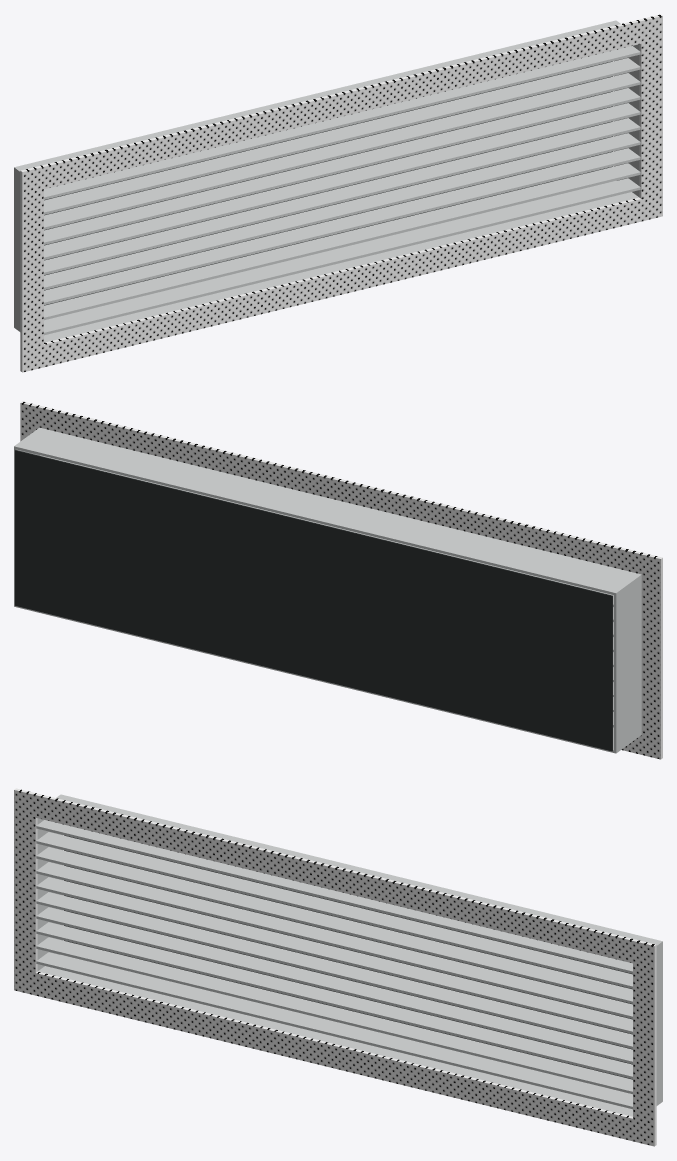
The model's file is ecoclima-ebls-500x125.glb.
3 renders of one model, top to bottom at view 1: azimuth 30°, elevation 25°; view 2: azimuth 150°, elevation 25°; view 3: azimuth 330°, elevation 25°, orthographic.
Parts seen in each view (by area): view 1: Profile_cornice, Profile_cornice.001, Profile_barra, Profile_barra.001, Profile_barra.002, Profile_barra.003, Profile_barra.008, Profile_barra.004, Profile_barra.006, Profile_barra.005, Profile_barra.007, Profile_barra.009 (+7 smaller); view 2: Interno, Profile_ritorno, Profile_cornice, Profile_ritorno.002, Profile_cornice.002, Profile_ritorno.001, Profile_barra.008, Profile_cornice.001; view 3: Profile_cornice, Profile_cornice.001, Profile_barra, Profile_barra.001, Profile_barra.002, Profile_barra.003, Profile_barra.008, Profile_barra.004, Profile_barra.006, Profile_barra.005, Profile_barra.007, Profile_barra.009 (+7 smaller).
Boxes of the visible parts, x1,y1,x2,y2 form: Profile_cornice: (20, 14, 662, 194); Profile_cornice.001: (20, 194, 662, 372); Profile_barra: (44, 178, 640, 335); Profile_barra.001: (44, 163, 640, 320); Profile_barra.002: (44, 148, 640, 305); Profile_barra.003: (44, 133, 640, 289); Profile_barra.008: (44, 58, 640, 214); Profile_barra.004: (44, 118, 640, 274); Profile_barra.006: (44, 88, 640, 244); Profile_barra.005: (44, 103, 640, 259); Profile_barra.007: (44, 73, 640, 229); Profile_barra.009: (44, 46, 640, 199); Interno: (15, 450, 612, 751); Profile_ritorno: (14, 427, 641, 595); Profile_cornice: (20, 401, 662, 581); Profile_ritorno.002: (613, 577, 641, 750); Profile_cornice.002: (641, 577, 662, 736); Profile_ritorno.001: (14, 604, 641, 753); Profile_barra.008: (40, 455, 613, 607); Profile_cornice.001: (621, 732, 662, 759); Profile_cornice: (14, 788, 656, 968); Profile_cornice.001: (14, 968, 656, 1146); Profile_barra: (36, 952, 632, 1109); Profile_barra.001: (36, 937, 632, 1094); Profile_barra.002: (36, 922, 632, 1079); Profile_barra.003: (36, 907, 632, 1063); Profile_barra.008: (36, 832, 632, 988); Profile_barra.004: (36, 892, 632, 1048); Profile_barra.006: (36, 862, 632, 1018); Profile_barra.005: (36, 877, 632, 1033); Profile_barra.007: (36, 847, 632, 1003); Profile_barra.009: (36, 820, 632, 973).
Bounding box in the file's own units: 0.535 × 0.16 × 0.042.
Materials: 3 (1 with a texture image).
